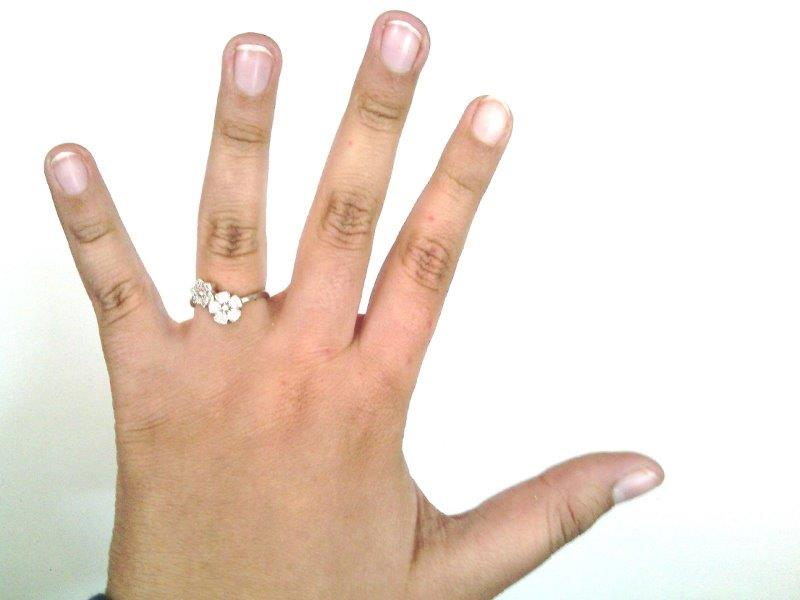hand: (44, 11, 665, 594)
